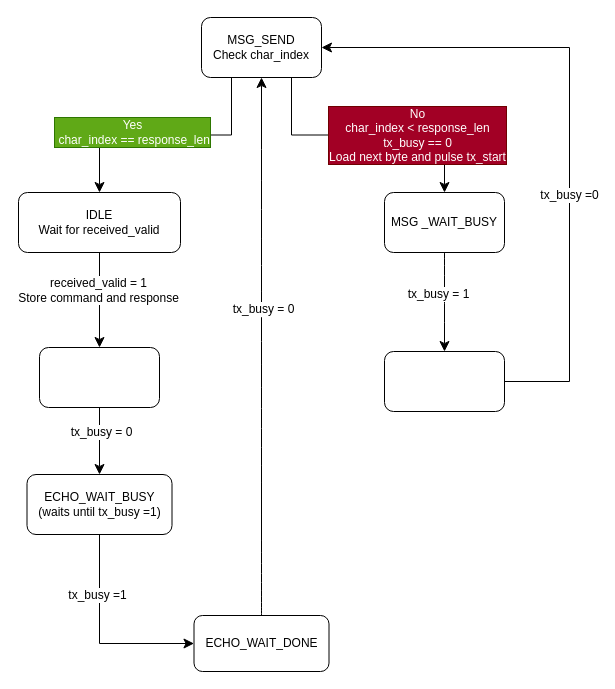
Image size: 615x689. Some labels were removed from this diagram. The shapes that lost their labels are listed below. From the top down, each one's centre as x and y in pixels, then its label:
At (99,377): "ECHO_SEND Load echo_data Pulse tx_start".
At (444,381): "MSG_WAIT_DONE Increment char_index".
